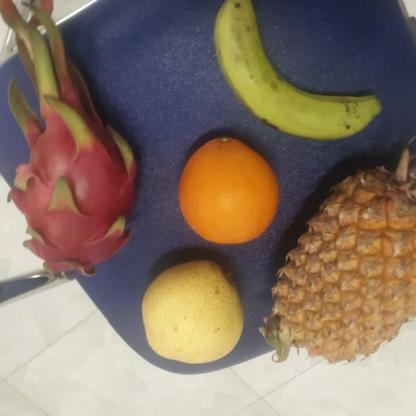banana: (210, 0, 378, 140)
orange: (172, 137, 279, 247)
pear: (138, 262, 246, 366)
pineapple: (270, 162, 416, 366)
pitaya: (12, 111, 138, 276)
